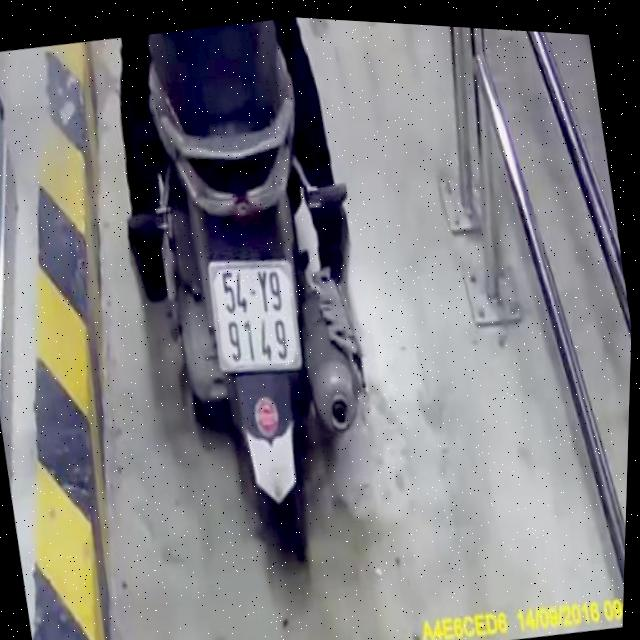motorcycle: (106, 7, 414, 586)
plate: (196, 243, 310, 384)
